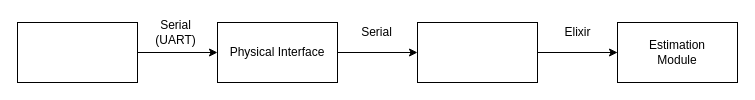
Image size: 755x100. Some labels were removed from this diagram. The shapes that lost their labels are listed below. From the top down, each one's centre as x and y in pixels, then its label:
pixel 77 52: Sensor
pixel 477 52: Parser
